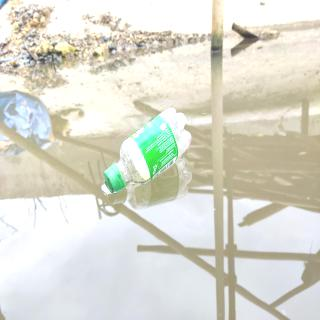bottle: (101, 106, 192, 196)
